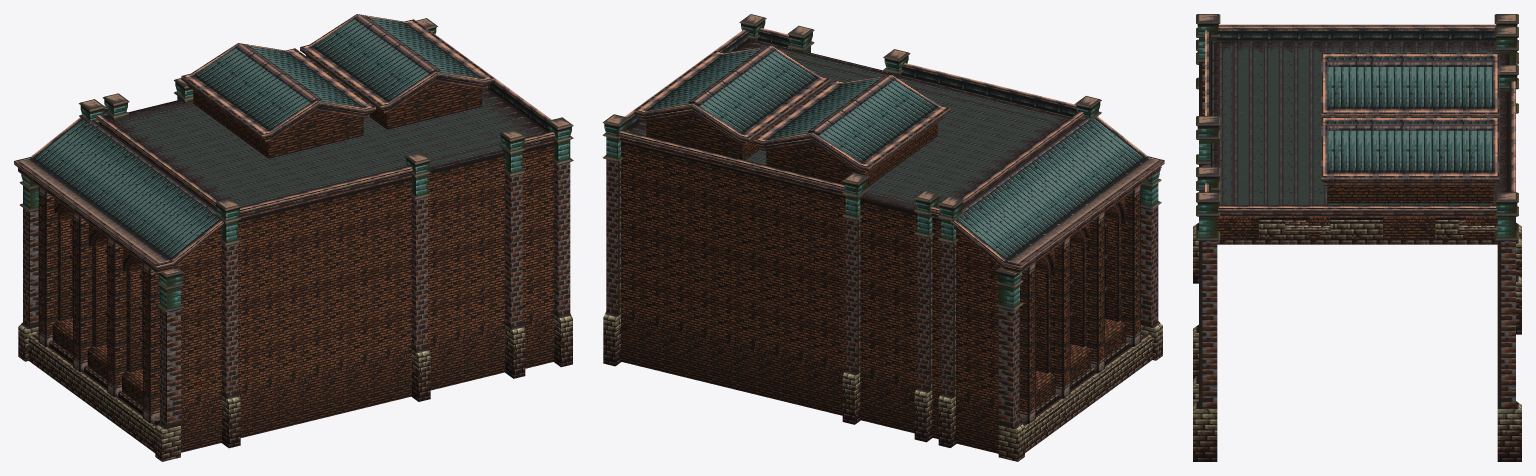
Rendered from EnvBdgMD_Factory_A_Outdoor_RoofTop_B.FBX.
3 renders of one model, left to right at view 1: azimuth 30°, elevation 25°; view 2: azimuth 150°, elevation 25°; view 3: azimuth 270°, elevation 25°, orthographic. The views are drawn at different scales.
Visible parts, largest first — view 1: EnvBdgMD_Factory_A_Outdoor_RoofTop_B; view 2: EnvBdgMD_Factory_A_Outdoor_RoofTop_B; view 3: EnvBdgMD_Factory_A_Outdoor_RoofTop_B.
Part boxes in pixels (x1,y1,x2,y2): EnvBdgMD_Factory_A_Outdoor_RoofTop_B: (14, 14, 573, 461); EnvBdgMD_Factory_A_Outdoor_RoofTop_B: (602, 14, 1164, 461); EnvBdgMD_Factory_A_Outdoor_RoofTop_B: (1193, 14, 1521, 461).
Bounding box in the file's own units: 1745 × 1084 × 1090.
